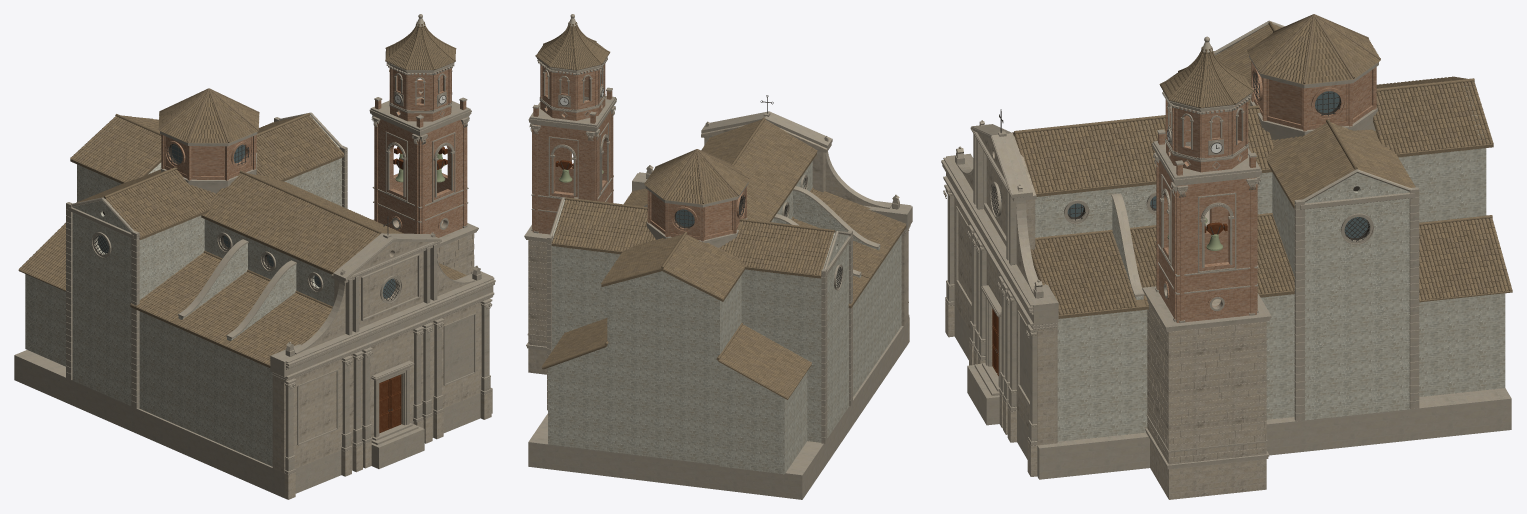
File: iglesia.glb
3 views of the same model, side by side, from view 1: azimuth 30°, elevation 25°; view 2: azimuth 150°, elevation 25°; view 3: azimuth 270°, elevation 25° (orthographic). The views are drawn at different scales.
Parts seen in each view (by area): view 1: IG4_Zocalo, Tejas_IG4_Cubierta_Lateral_Oeste_2, IG4_Nave_Lateral_Oeste, IG4_Nave_Mayor, IG4_Fachada_Cuerpo_Bajo, Cimborrio_0_moldura0, IG4_Cubierta_Lateral_Oeste, IG4_Fachada_Atico, IG4_Cimborrio_Tambor, Puerta_hoja, Argolla_puerta, Oculo_fachada_vidrio; view 2: IG4_Nave_Lateral_Oeste, Tejas_IG4_Cubierta_Lateral_Oeste_2, IG4_Zocalo, IG4_Nave_Mayor, Cimborrio_0_moldura0, IG4_Cubierta_Lateral_Oeste, IG4_Fachada_Cuerpo_Bajo, IG4_Cimborrio_Tambor, IG4_Fachada_Atico, Argolla_puerta; view 3: IG4_Zocalo, Tejas_IG4_Cubierta_Lateral_Oeste_2, IG4_Nave_Mayor, IG4_Nave_Lateral_Oeste, IG4_Fachada_Cuerpo_Bajo, Cimborrio_0_moldura0, IG4_Cubierta_Lateral_Oeste, IG4_Cimborrio_Tambor, IG4_Fachada_Atico, Argolla_puerta, Oculo_fachada_vidrio, Puerta_hoja.
Part boxes in pixels (x1,y1,x2,y2): IG4_Zocalo: [14, 14, 495, 498]; Tejas_IG4_Cubierta_Lateral_Oeste_2: [19, 88, 466, 364]; IG4_Nave_Lateral_Oeste: [25, 124, 296, 466]; IG4_Nave_Mayor: [72, 115, 341, 405]; IG4_Fachada_Cuerpo_Bajo: [272, 221, 481, 473]; Cimborrio_0_moldura0: [161, 67, 467, 237]; IG4_Cubierta_Lateral_Oeste: [18, 21, 456, 367]; IG4_Fachada_Atico: [332, 241, 431, 333]; IG4_Cimborrio_Tambor: [164, 136, 252, 179]; Puerta_hoja: [379, 146, 447, 433]; Argolla_puerta: [93, 94, 446, 411]; Oculo_fachada_vidrio: [98, 144, 395, 298]; IG4_Nave_Lateral_Oeste: [548, 190, 901, 474]; Tejas_IG4_Cubierta_Lateral_Oeste_2: [541, 117, 906, 397]; IG4_Zocalo: [524, 14, 912, 499]; IG4_Nave_Mayor: [552, 161, 849, 442]; Cimborrio_0_moldura0: [532, 63, 746, 241]; IG4_Cubierta_Lateral_Oeste: [535, 22, 906, 399]; IG4_Fachada_Cuerpo_Bajo: [528, 156, 908, 374]; IG4_Cimborrio_Tambor: [650, 190, 744, 240]; IG4_Fachada_Atico: [701, 124, 827, 192]; Argolla_puerta: [558, 88, 842, 287]; IG4_Zocalo: [941, 20, 1511, 479]; Tejas_IG4_Cubierta_Lateral_Oeste_2: [1012, 14, 1512, 315]; IG4_Nave_Mayor: [1035, 36, 1409, 420]; IG4_Nave_Lateral_Oeste: [1057, 86, 1505, 441]; IG4_Fachada_Cuerpo_Bajo: [954, 172, 1266, 499]; Cimborrio_0_moldura0: [1156, 61, 1376, 322]; IG4_Cubierta_Lateral_Oeste: [1013, 20, 1512, 318]; IG4_Cimborrio_Tambor: [1254, 67, 1373, 130]; IG4_Fachada_Atico: [977, 132, 1036, 264]; Argolla_puerta: [991, 72, 1370, 352]; Oculo_fachada_vidrio: [1000, 91, 1368, 237]; Puerta_hoja: [992, 222, 1227, 375].
Bounding box in the file's own units: 39.29 × 36.5 × 42.99.
Materials: 27 (22 with a texture image).
